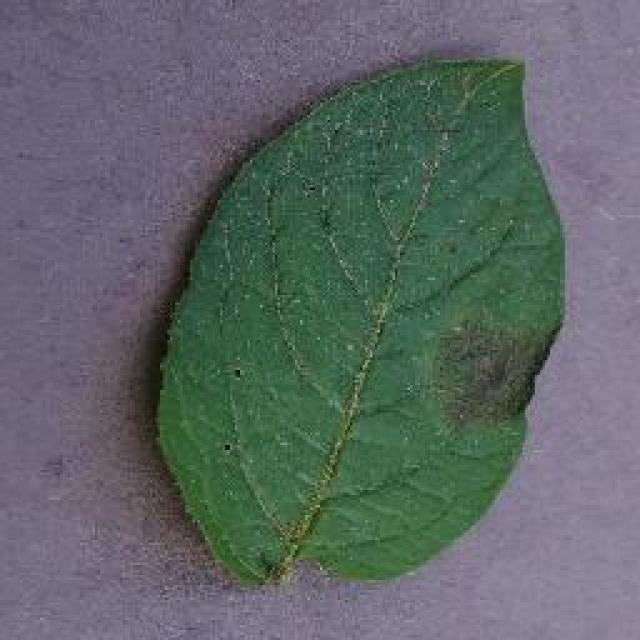late_blight: (150, 50, 570, 590)
